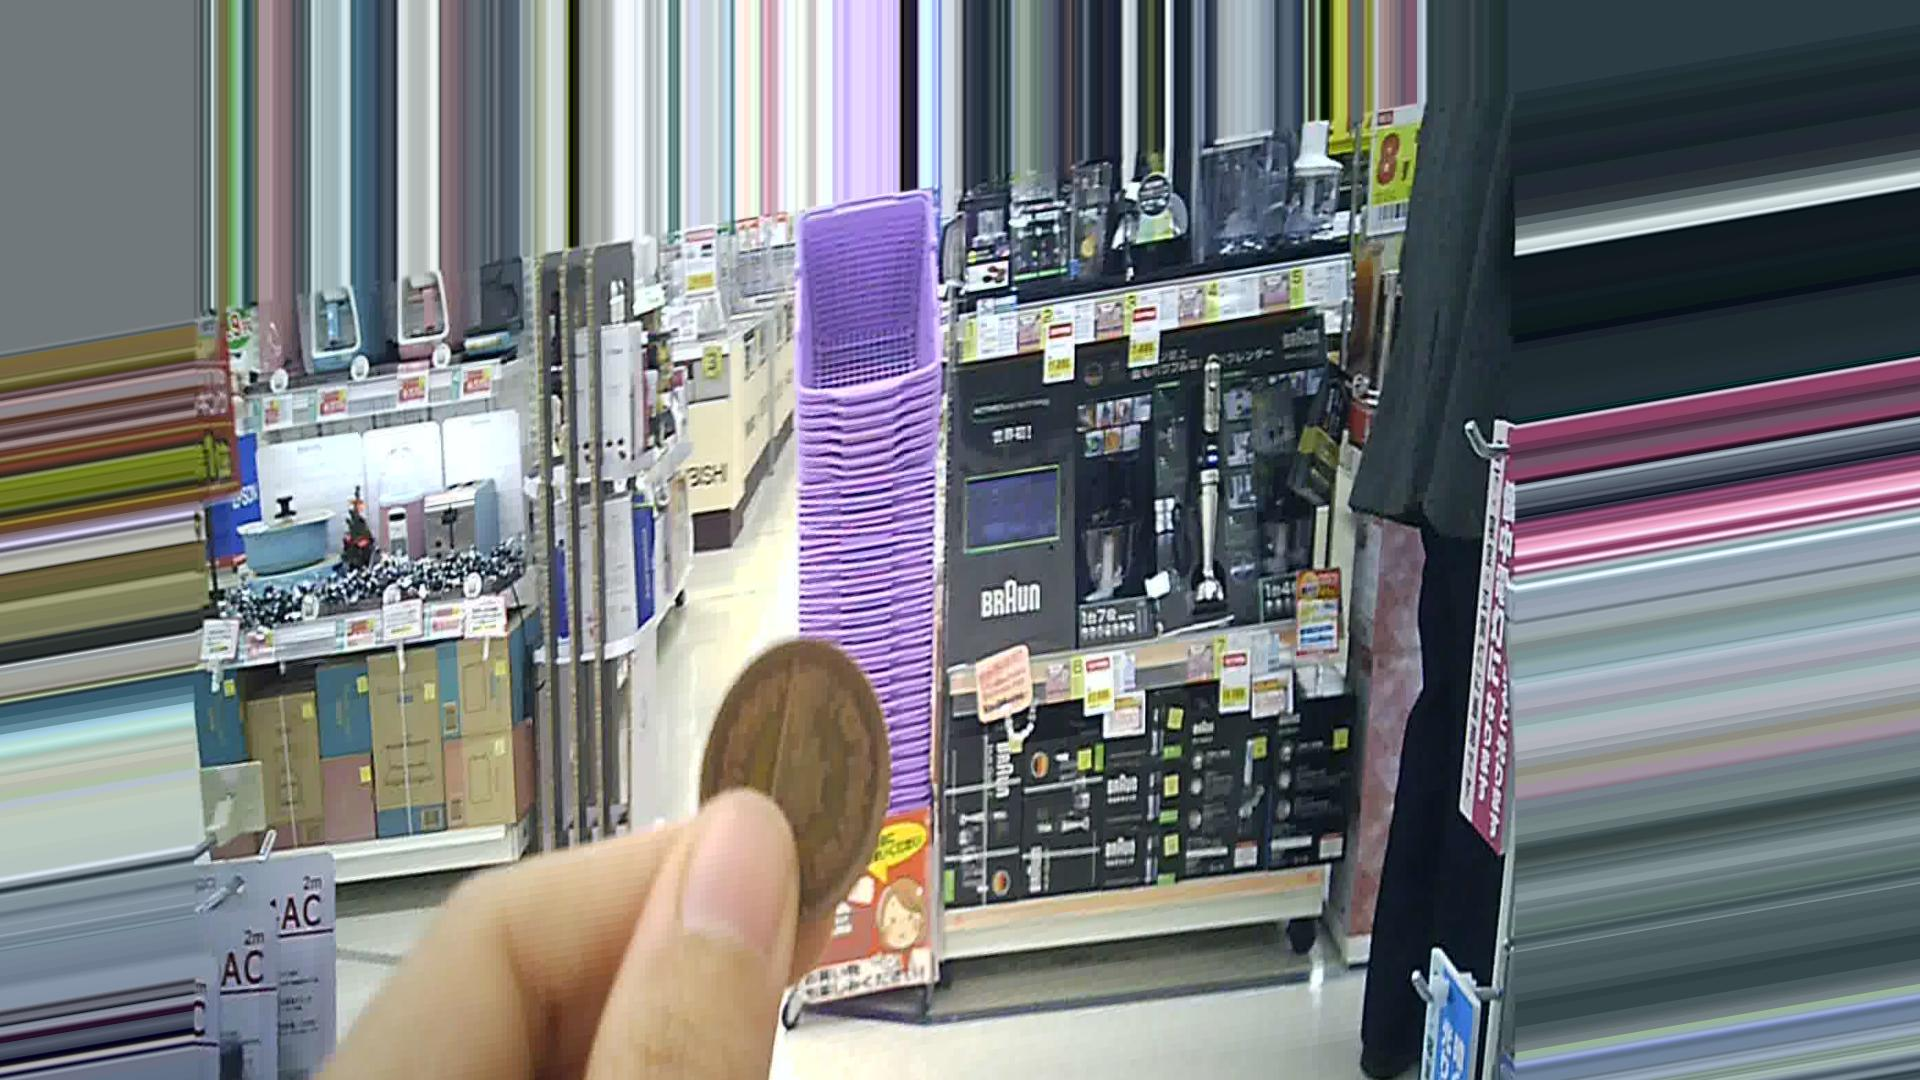10 Yen: (669, 629, 885, 916)
